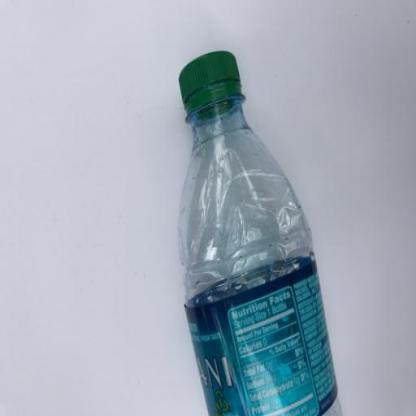trash: (176, 50, 342, 416)
